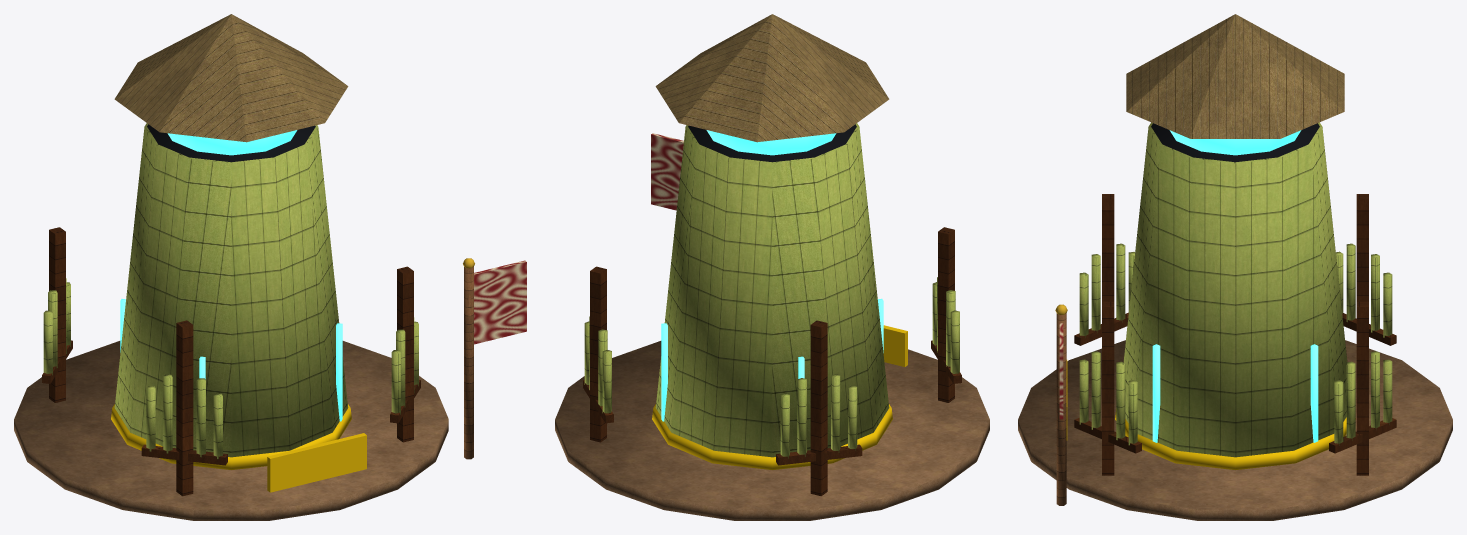
Rendered from reactor_sunda.glb.
The picture shows the model from 3 angles, left to right: view 1: azimuth 30°, elevation 25°; view 2: azimuth 150°, elevation 25°; view 3: azimuth 270°, elevation 25°; orthographic projection.
Visible parts, largest first — view 1: reactor_sunda; view 2: reactor_sunda; view 3: reactor_sunda.
Part boxes in pixels (x1,y1,x2,y2): reactor_sunda: (14, 14, 526, 520); reactor_sunda: (555, 14, 989, 520); reactor_sunda: (1018, 14, 1452, 520).
Bounding box in the file's own units: 3.65 × 3.7 × 3.5.
Materials: 11 (7 with a texture image).
